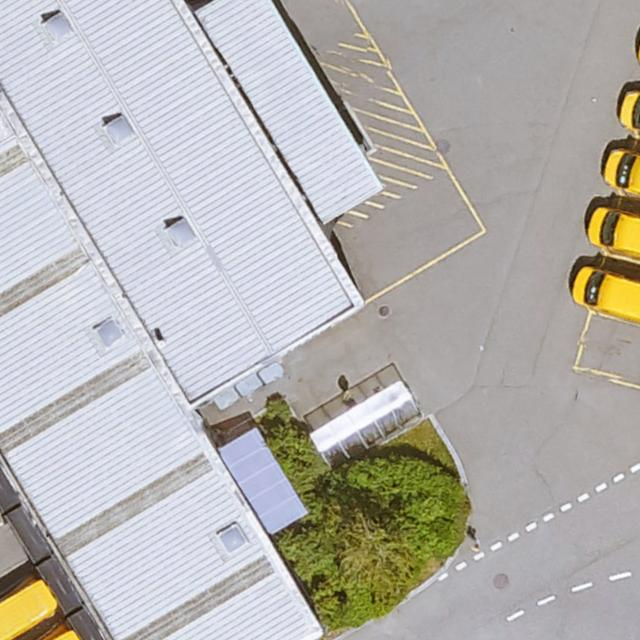tree: (310, 461, 463, 616)
